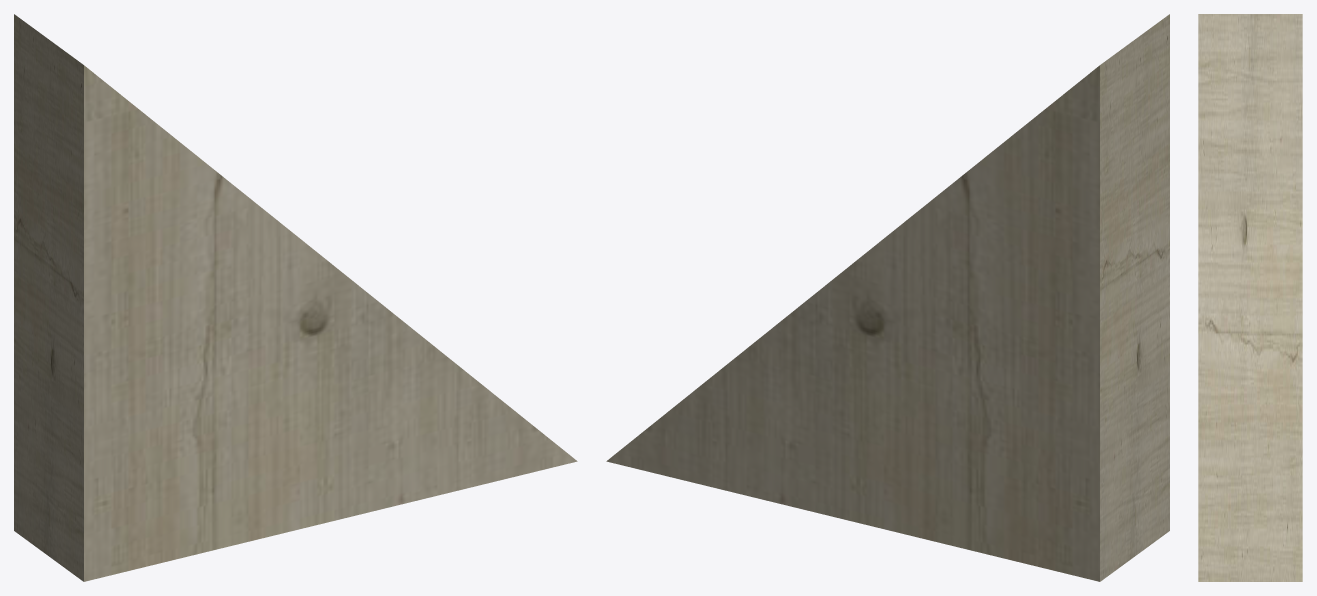
Rendered from triangle_shielded.glb.
The picture shows the model from 3 angles, left to right: view 1: azimuth 30°, elevation 25°; view 2: azimuth 150°, elevation 25°; view 3: azimuth 270°, elevation 25°; orthographic projection. The views are drawn at different scales.
Parts seen in each view (by area): view 1: triangle; view 2: triangle; view 3: triangle.
Part boxes in pixels (left/top/right/bottom): triangle: left=14, top=14, right=577, bottom=581; triangle: left=606, top=14, right=1169, bottom=581; triangle: left=1198, top=14, right=1302, bottom=581.
Bounding box in the file's own units: 0.9 × 0.9 × 0.22.
1 material, 1 textured.
